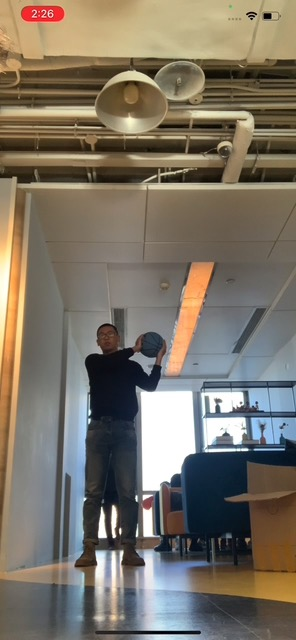ball: (139, 331, 165, 359)
